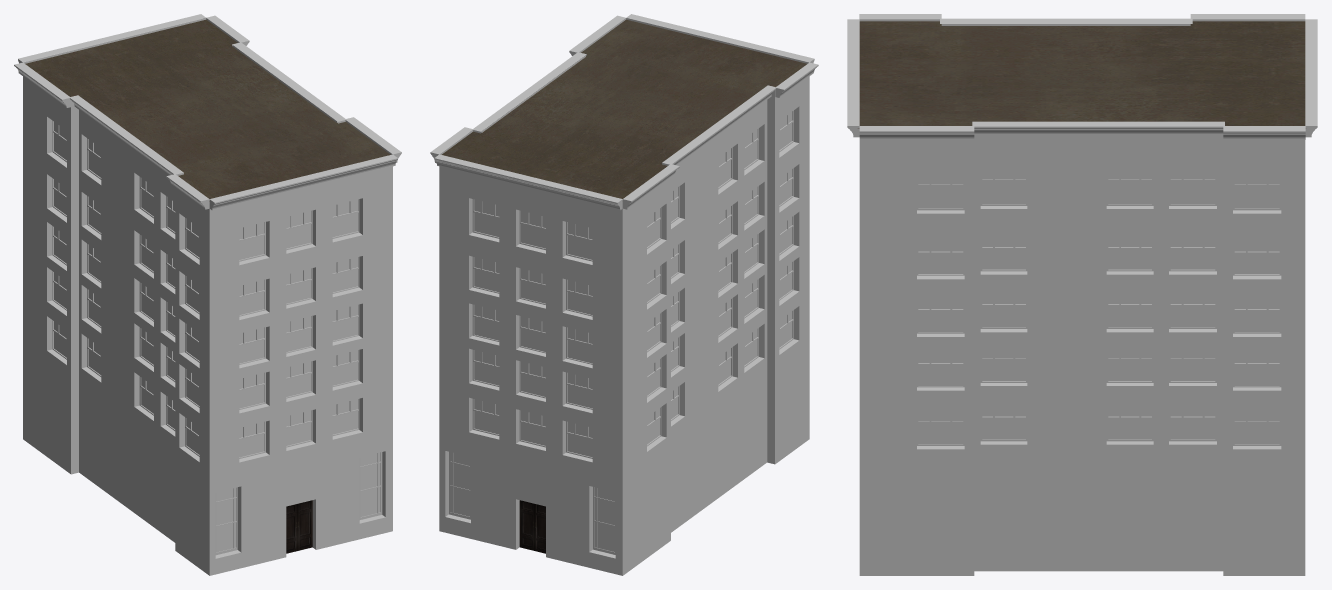
The model's file is Classic_house_complete_Var02_sm.FBX.
3 views of the same model, side by side, from view 1: azimuth 30°, elevation 25°; view 2: azimuth 150°, elevation 25°; view 3: azimuth 270°, elevation 25° (orthographic). The views are drawn at different scales.
Parts seen in each view (by area): view 1: Classic_house_complete_Var02_sm_LOD0; view 2: Classic_house_complete_Var02_sm_LOD0; view 3: Classic_house_complete_Var02_sm_LOD0.
Boxes of the visible parts, x1=… form: Classic_house_complete_Var02_sm_LOD0: x1=14, y1=14, x2=401, y2=575; Classic_house_complete_Var02_sm_LOD0: x1=430, y1=14, x2=818, y2=575; Classic_house_complete_Var02_sm_LOD0: x1=847, y1=14, x2=1317, y2=575.
Size of what is drawn, in the model's own units: 2857 by 4841 by 5109.
